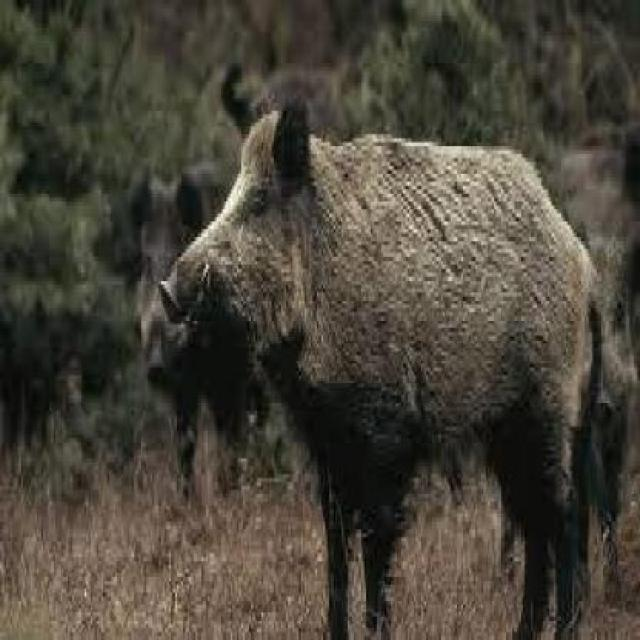wildboar: (160, 84, 611, 640), (491, 210, 640, 636), (123, 146, 274, 514)
